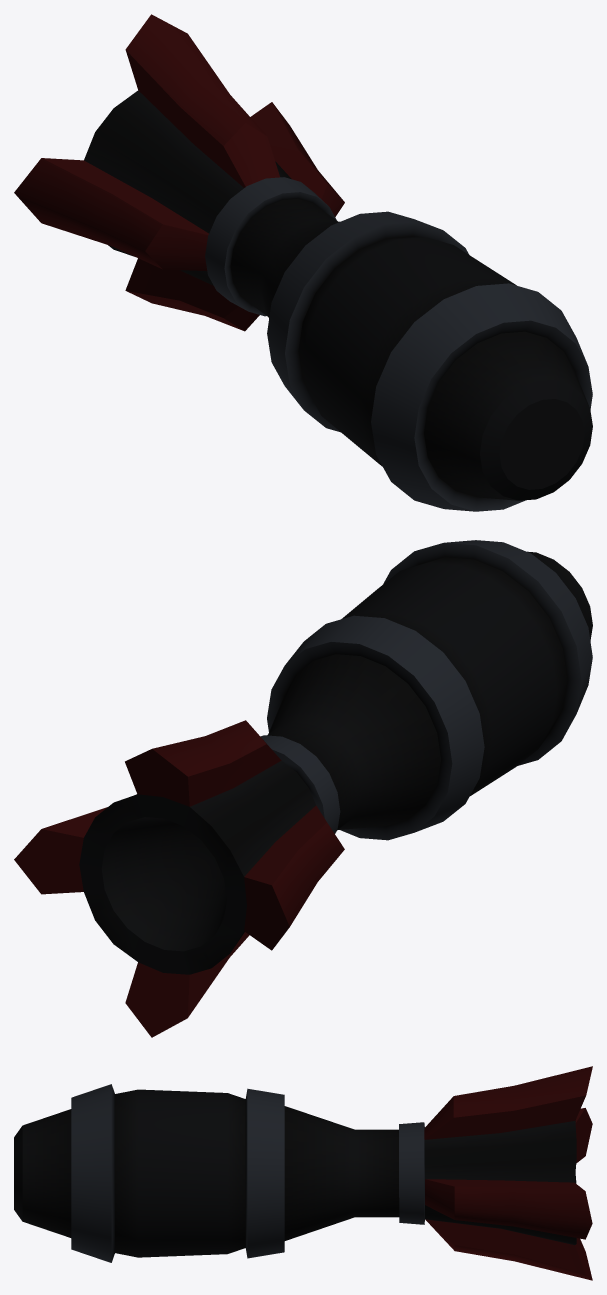
Rendered from rpgrocket.fbx.
3 renders of one model, top to bottom at view 1: azimuth 30°, elevation 25°; view 2: azimuth 150°, elevation 25°; view 3: azimuth 270°, elevation 25°, orthographic. The views are drawn at different scales.
Parts seen in each view (by area): view 1: pCylinder2; view 2: pCylinder2; view 3: pCylinder2.
Boxes of the visible parts, bbox=[...] form: pCylinder2: bbox=[14, 14, 592, 511]; pCylinder2: bbox=[14, 540, 592, 1037]; pCylinder2: bbox=[14, 1066, 592, 1280].
Bounding box in the file's own units: 10.39 × 10.41 × 25.46.
